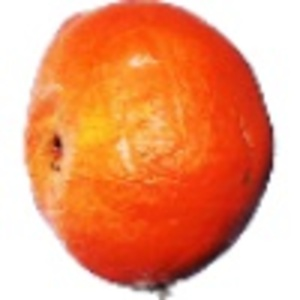tangerina: (22, 1, 280, 300)
